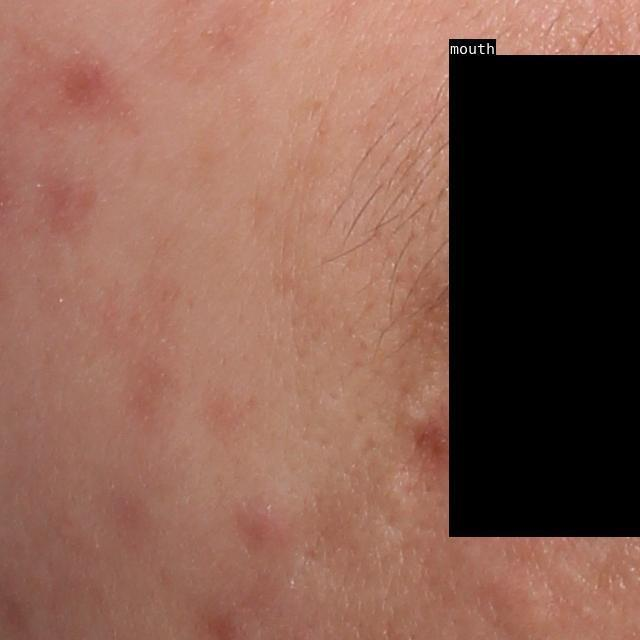hypertrophic_scar: (354, 472, 415, 570)
papule: (232, 497, 293, 551)
